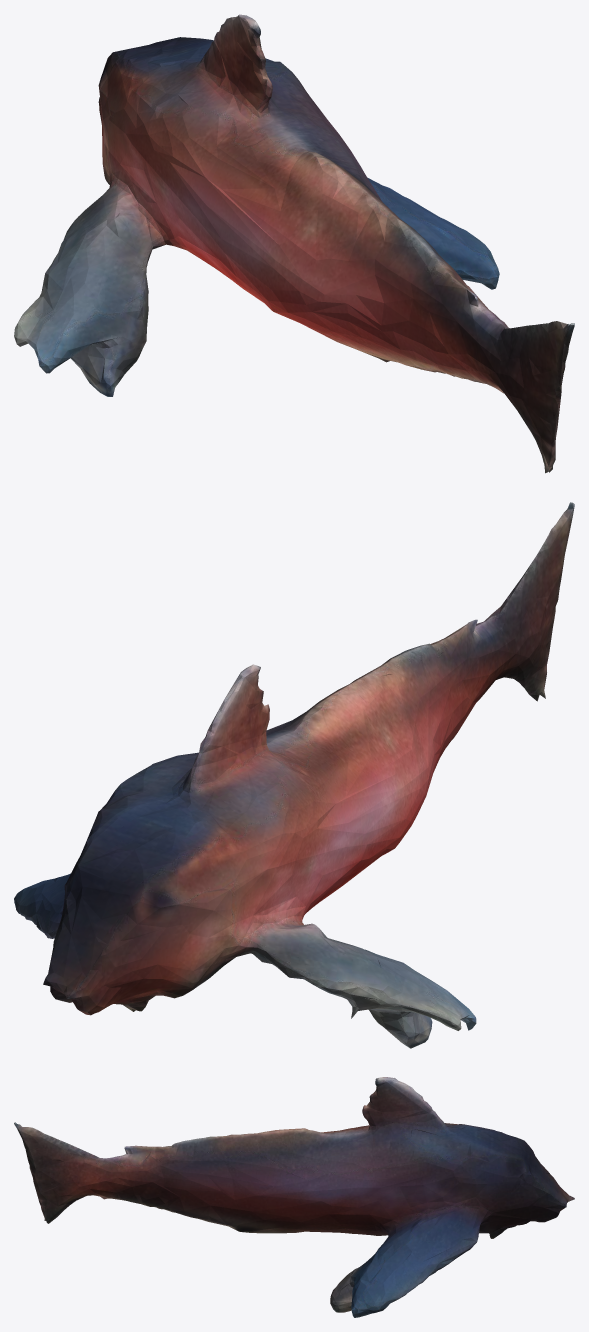
3 renders of one model, top to bottom at view 1: azimuth 30°, elevation 25°; view 2: azimuth 150°, elevation 25°; view 3: azimuth 270°, elevation 25°, orthographic. The views are drawn at different scales.
Visible parts, largest first — view 1: Mesh_0.007; view 2: Mesh_0.007; view 3: Mesh_0.007.
Boxes of the visible parts, x1,y1,x2,y2 form: Mesh_0.007: [14, 14, 574, 473]; Mesh_0.007: [14, 502, 574, 1048]; Mesh_0.007: [14, 1077, 574, 1317].
Size of the model in its own units: 0.4253 by 0.2995 by 0.7869.
Materials: 1 (1 with a texture image).
